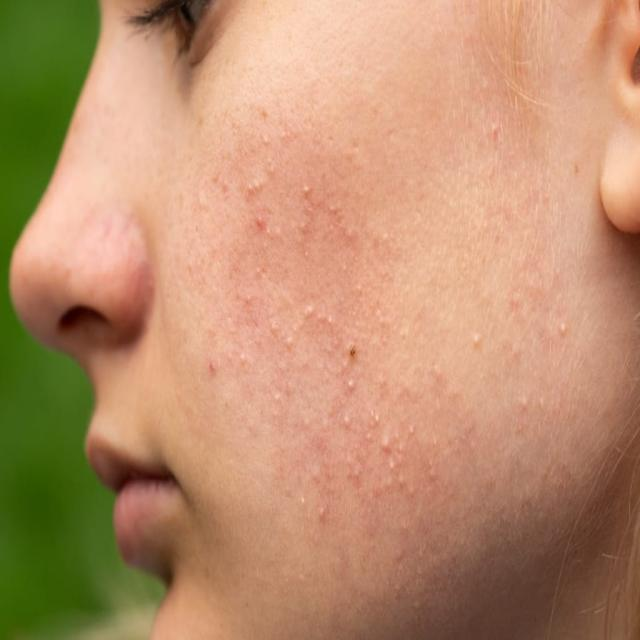Acne: (193, 110, 590, 526)
